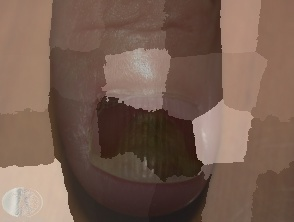Nail_psoriasis: (48, 51, 234, 211)
